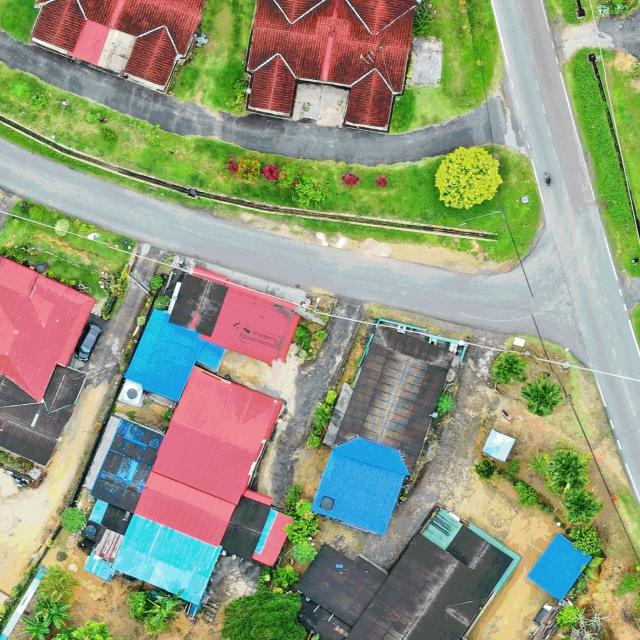Tree: (220, 584, 306, 640), (434, 144, 503, 210), (544, 445, 593, 492), (519, 372, 565, 418), (558, 485, 604, 524), (142, 588, 185, 626), (489, 350, 529, 386), (36, 593, 74, 629), (293, 324, 328, 361), (52, 619, 113, 640), (567, 524, 602, 557), (283, 517, 321, 544), (21, 613, 52, 639), (554, 604, 584, 630), (60, 505, 88, 532), (473, 457, 494, 481), (28, 92, 48, 112)
